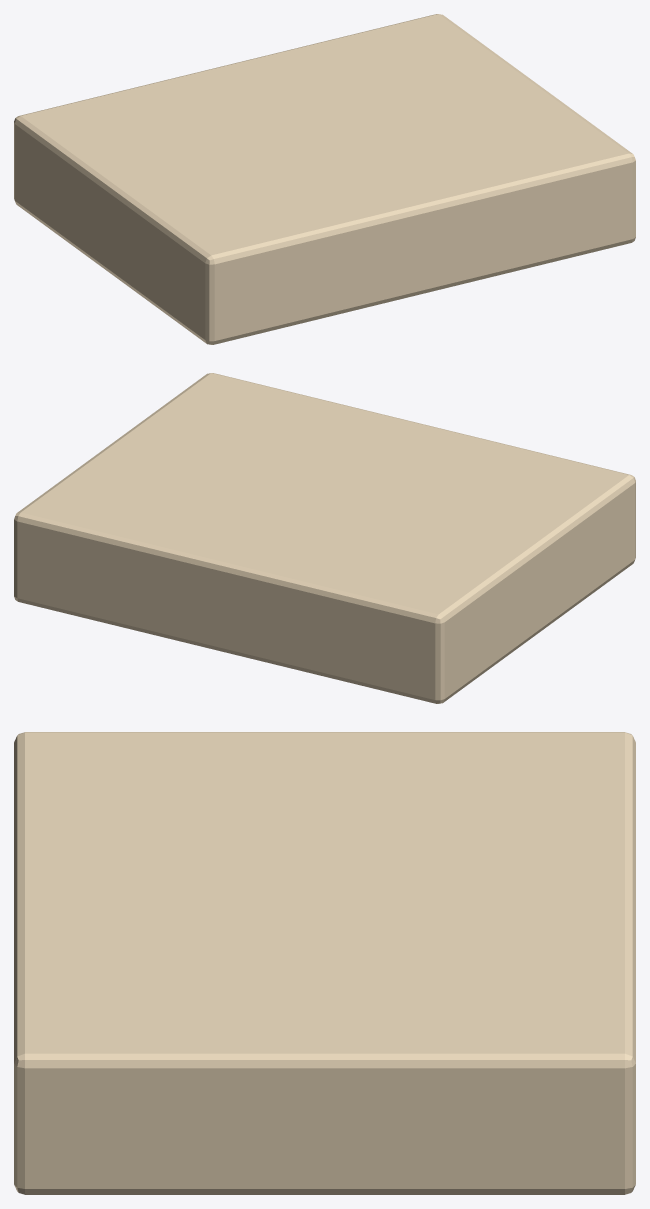
File: Deck_S_Frag_plate_a_lab2.glb
3 renders of one model, top to bottom at view 1: azimuth 30°, elevation 25°; view 2: azimuth 150°, elevation 25°; view 3: azimuth 270°, elevation 25°, orthographic. The views are drawn at different scales.
Visible parts, largest first — view 1: Deck_S_Frag_plate_a; view 2: Deck_S_Frag_plate_a; view 3: Deck_S_Frag_plate_a.
Boxes of the visible parts, left/top/right/bottom form: Deck_S_Frag_plate_a: left=14, top=14, right=635, bottom=344; Deck_S_Frag_plate_a: left=14, top=373, right=635, bottom=703; Deck_S_Frag_plate_a: left=14, top=732, right=635, bottom=1194.
Bounding box in the file's own units: 1.76 × 0.35 × 1.4.
